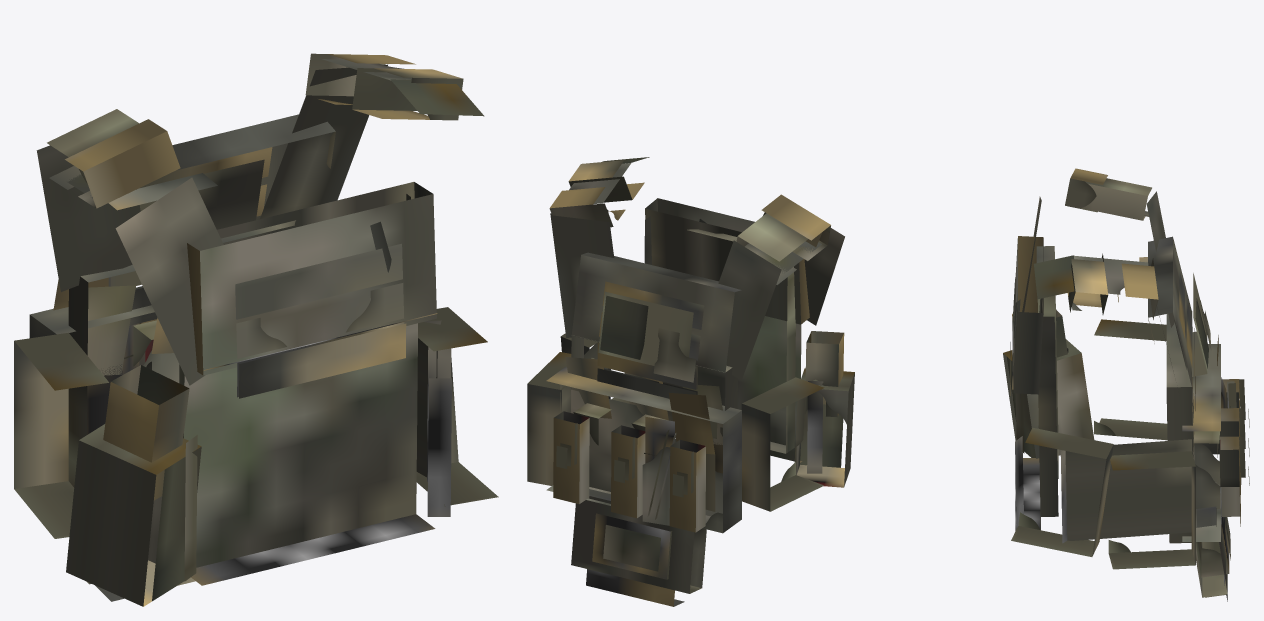
The model's file is us_veteran.obj.
3 renders of one model, left to right at view 1: azimuth 30°, elevation 25°; view 2: azimuth 150°, elevation 25°; view 3: azimuth 270°, elevation 25°, orthographic. The views are drawn at different scales.
Parts seen in each view (by area): view 1: plane; view 2: plane; view 3: plane.
Boxes of the visible parts, x1=… form: plane: x1=14, y1=53, x2=498, y2=606; plane: x1=527, y1=157, x2=854, y2=606; plane: x1=1003, y1=168, x2=1249, y2=601.
Size of the model in its own units: 0.7607 by 1.37 by 0.786.
